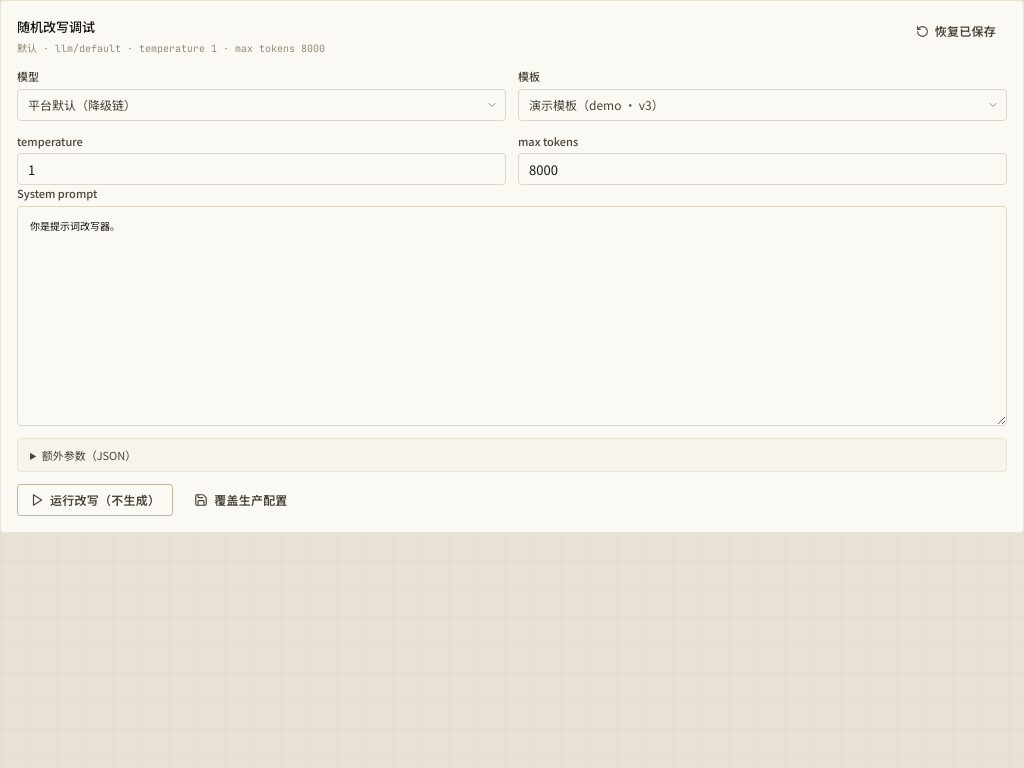
it: 随机改写调试面板 › 显式模型失败时说明它不走降级链
The image size is (1024, 768).
Click the button "运行改写（不生成）": click(95, 500) [17,484,173,516]
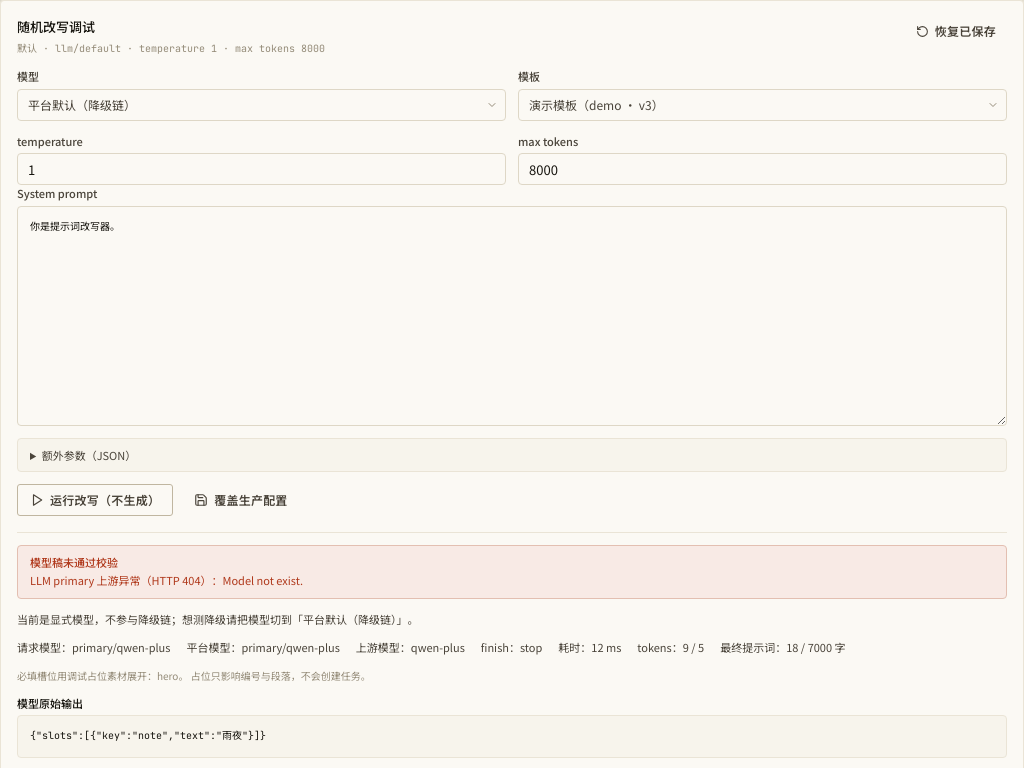
Result: the text "当前是显式模型，不参与降级链；想测降级请把模型切到「平台默认（降级链）」。" is shown at [17,611,418,627]
